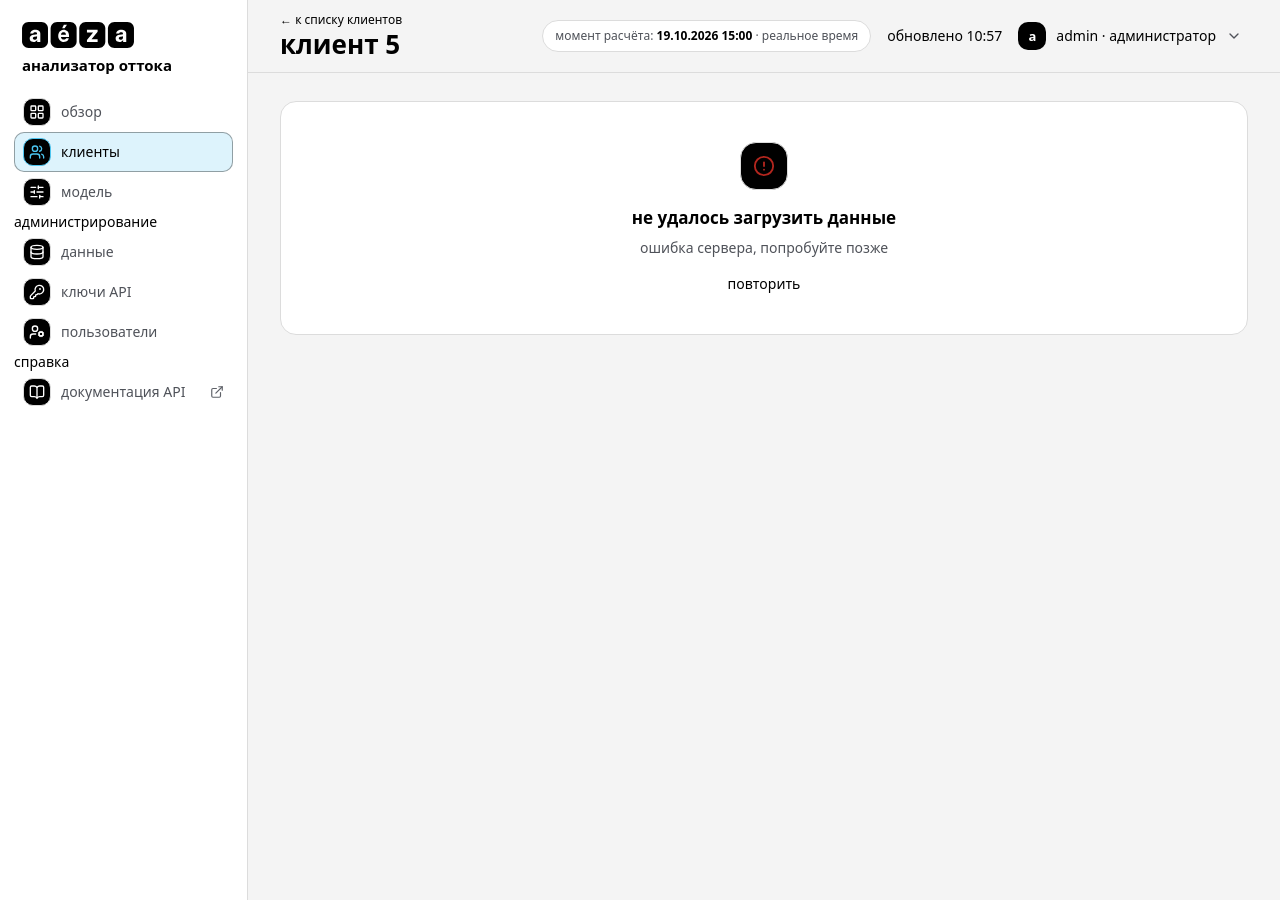
customer card › shows an error with retry
The width and height of the screenshot is (1280, 900).
Expected: the heading "не удалось загрузить данные" is shown, [632,206,896,230]
Step 1. Click the button "повторить" → (764, 284), box [728,274,800,294]
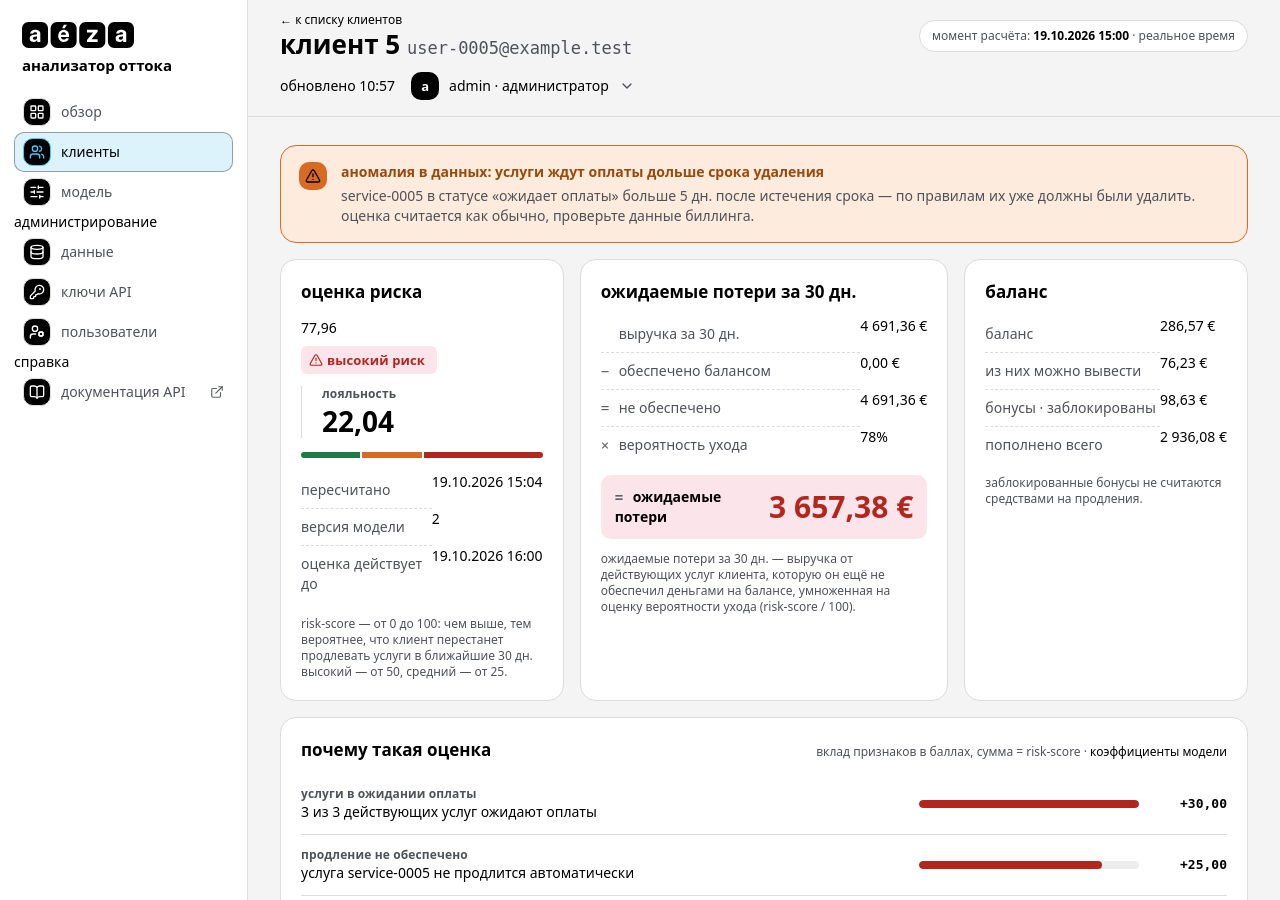
Result: the text "3 657,38 €" is shown at [769,489,913,525]
